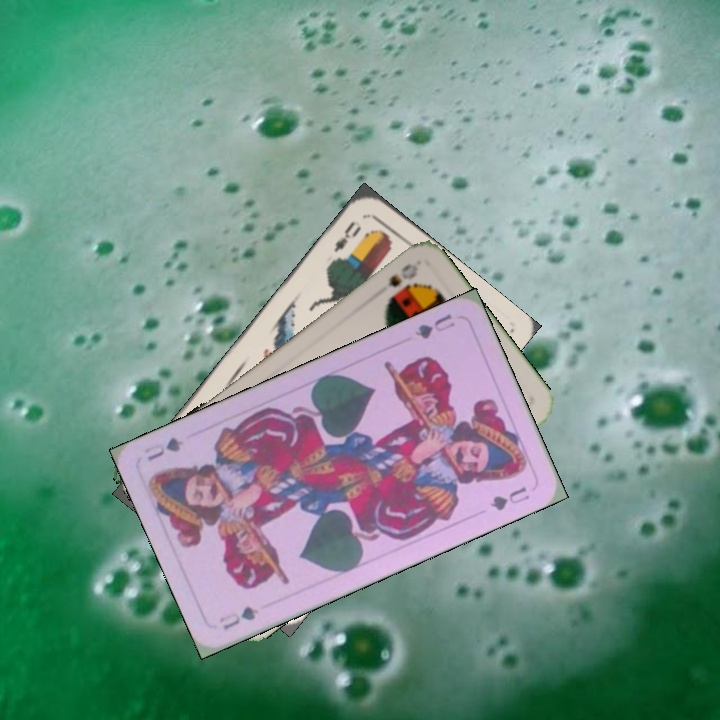EO: (328, 217, 364, 265)
GU: (410, 309, 458, 342), (215, 601, 262, 633)
SO: (384, 259, 421, 290)
